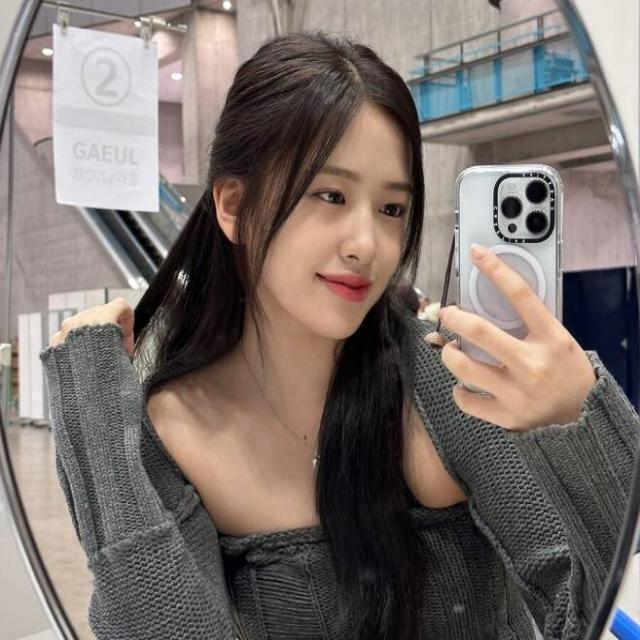lens: (499, 178, 554, 236)
phone: (452, 159, 568, 396)
